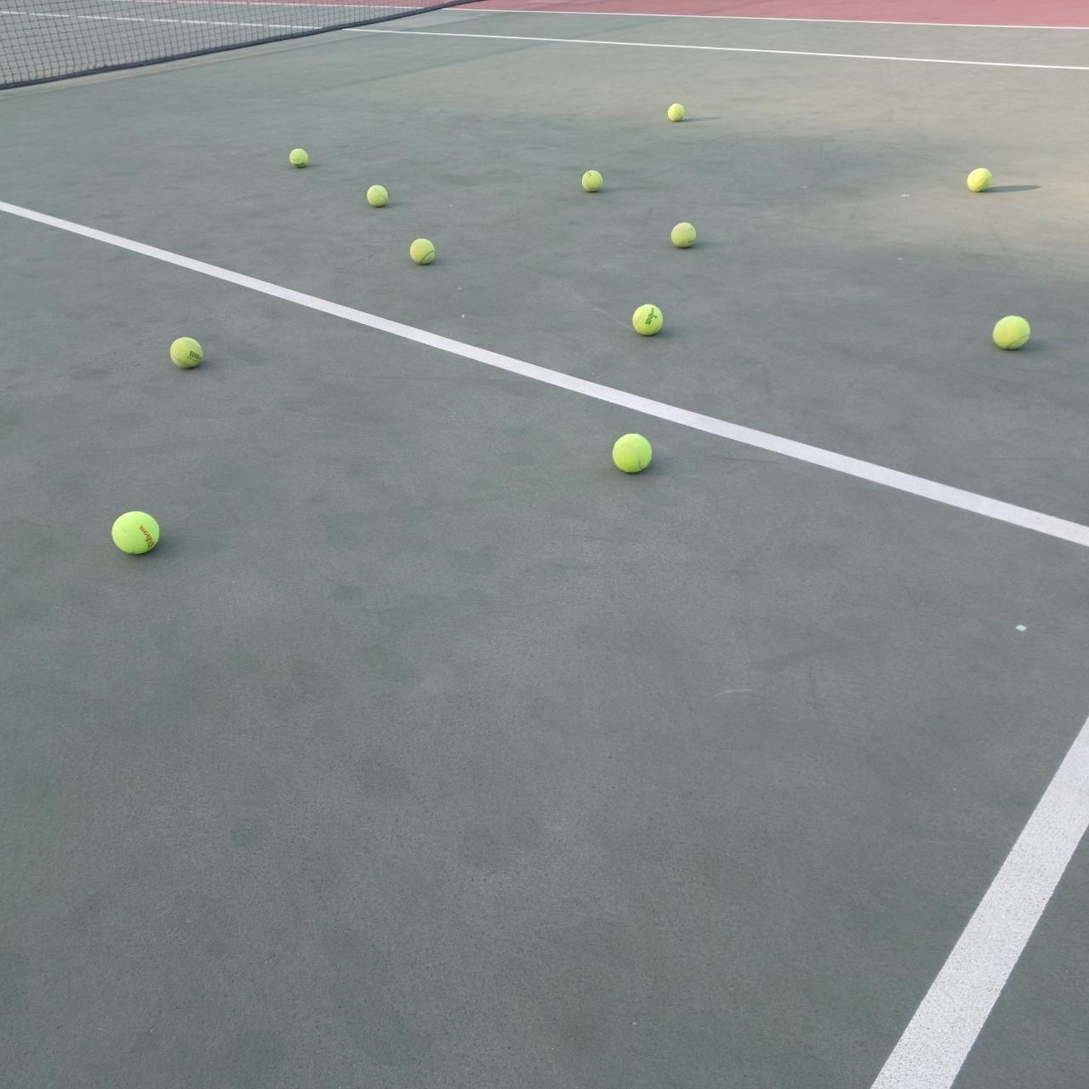tennis-ball: (110, 508, 160, 555), (610, 430, 653, 473), (990, 312, 1031, 350), (168, 334, 203, 368), (630, 301, 663, 335), (408, 236, 435, 265), (669, 220, 696, 248), (965, 164, 992, 191), (364, 182, 388, 207), (579, 167, 602, 192), (288, 145, 309, 167), (665, 101, 684, 122)
